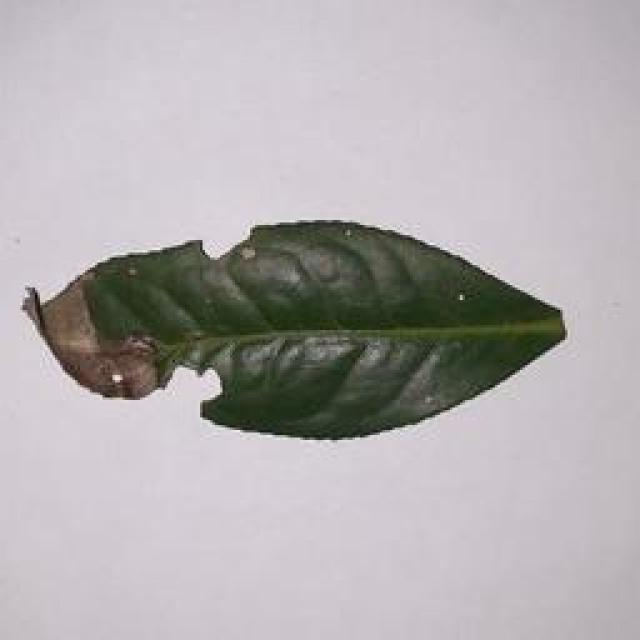Brown Blight: (15, 197, 580, 451)
